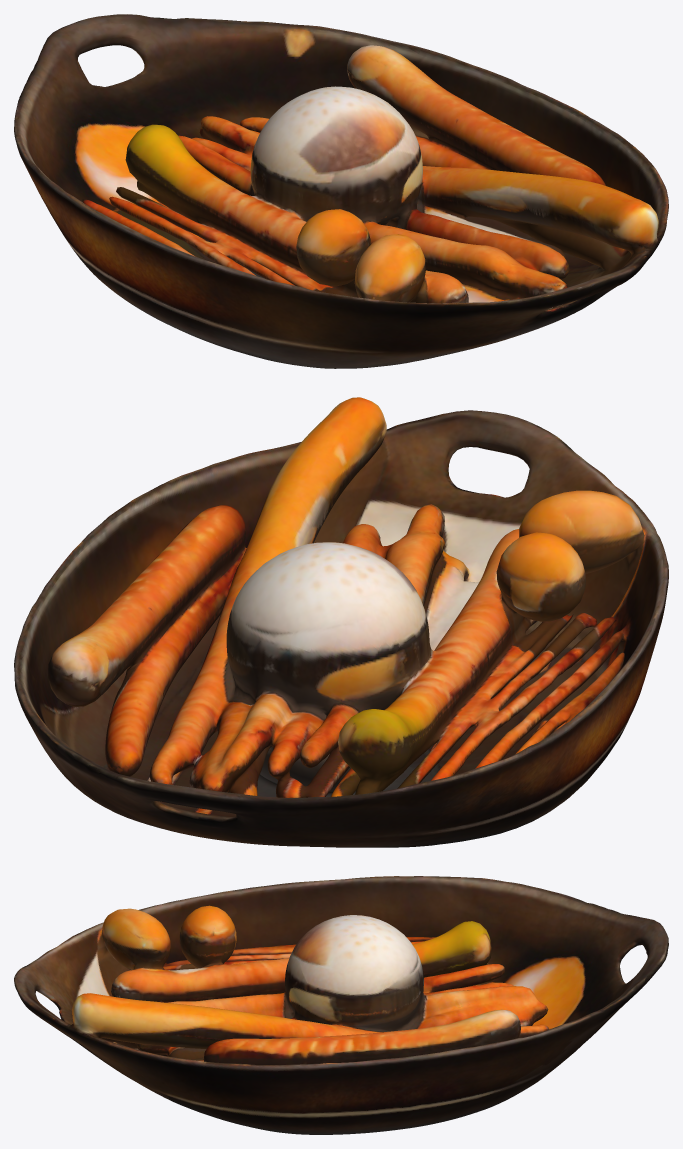
Rendered from Bandeja.glb.
3 views of the same model, one above another, from view 1: azimuth 30°, elevation 25°; view 2: azimuth 150°, elevation 25°; view 3: azimuth 270°, elevation 25° (orthographic). The views are drawn at different scales.
Bounding box in the file's own units: 1.38 × 0.5346 × 2.
Materials: 1 (1 with a texture image).
